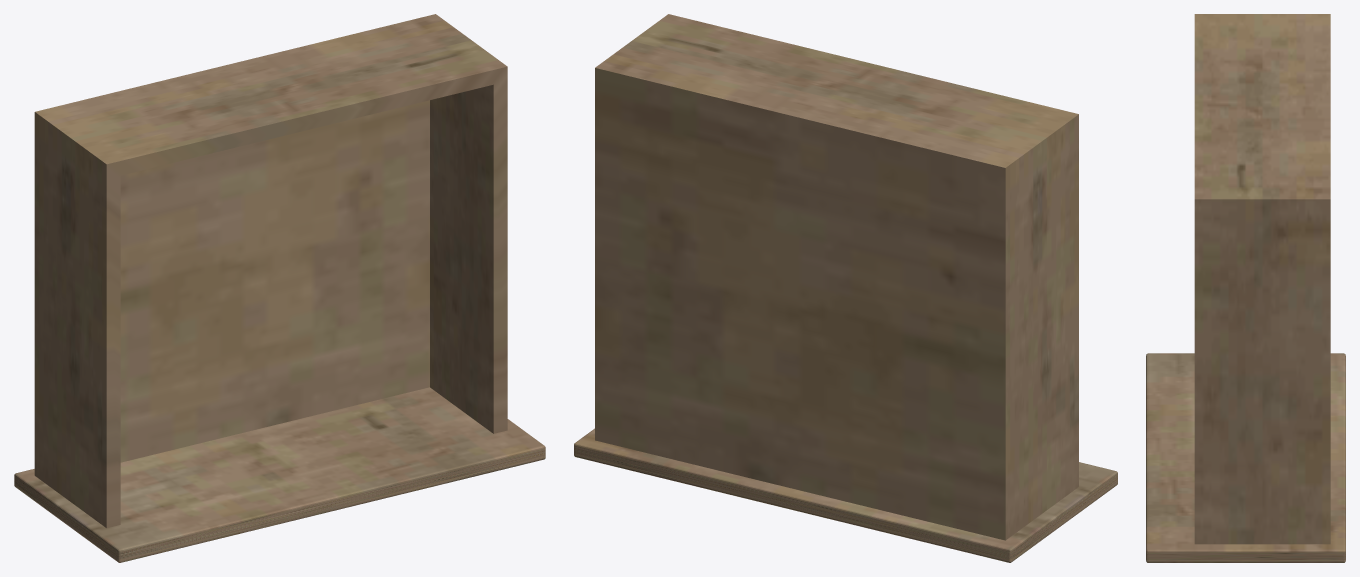
The picture shows the model from 3 angles, left to right: view 1: azimuth 30°, elevation 25°; view 2: azimuth 150°, elevation 25°; view 3: azimuth 270°, elevation 25°; orthographic projection. The views are drawn at different scales.
Parts seen in each view (by area): view 1: unicolor_black.001_1; view 2: unicolor_black.001_1; view 3: unicolor_black.001_1.
Boxes of the visible parts, left/top/right/bottom form: unicolor_black.001_1: left=14, top=14, right=545, bottom=562; unicolor_black.001_1: left=574, top=14, right=1117, bottom=562; unicolor_black.001_1: left=1146, top=14, right=1345, bottom=562.
Size of the model in its own units: 0.486 by 0.4105 by 0.2075.
1 material, 1 textured.
